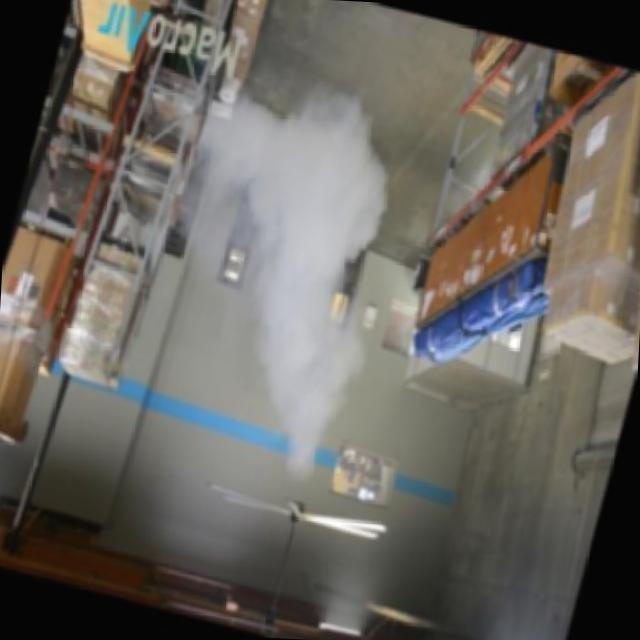smoke: (131, 63, 444, 501)
